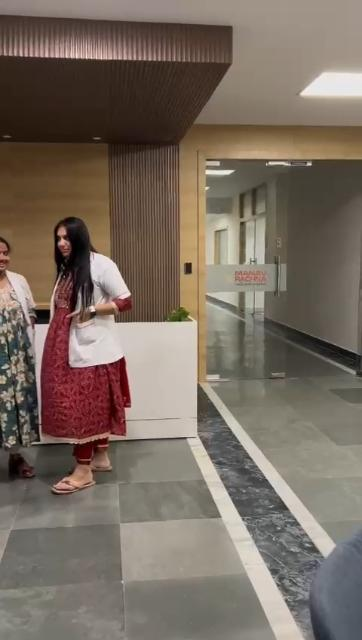floor: (0, 317, 362, 640)
moving-obj: (36, 216, 144, 498), (0, 219, 46, 489)
